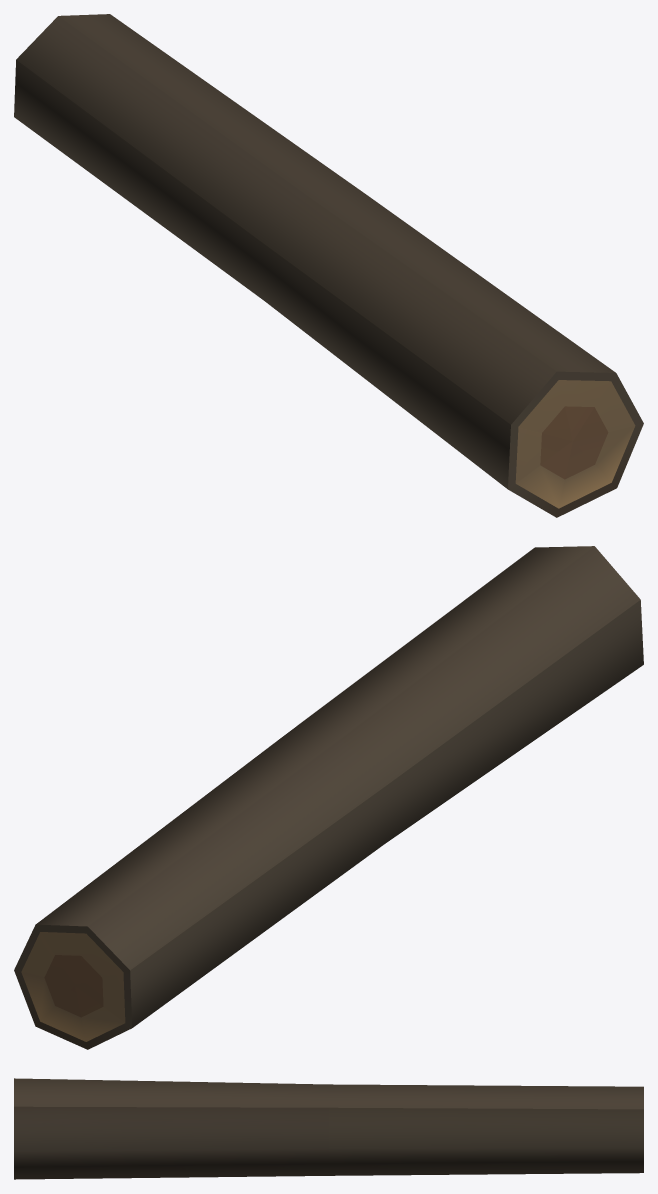
File: brace.glb
3 renders of one model, top to bottom at view 1: azimuth 30°, elevation 25°; view 2: azimuth 150°, elevation 25°; view 3: azimuth 270°, elevation 25°, orthographic. The views are drawn at different scales.
Parts seen in each view (by area): view 1: log-001; view 2: log-001; view 3: log-001.
Boxes of the visible parts, left/top/right/bottom form: log-001: left=14, top=14, right=643, bottom=517; log-001: left=14, top=546, right=643, bottom=1049; log-001: left=14, top=1078, right=643, bottom=1179.
Bounding box in the file's own units: 0.1662 × 0.1707 × 1.06.
